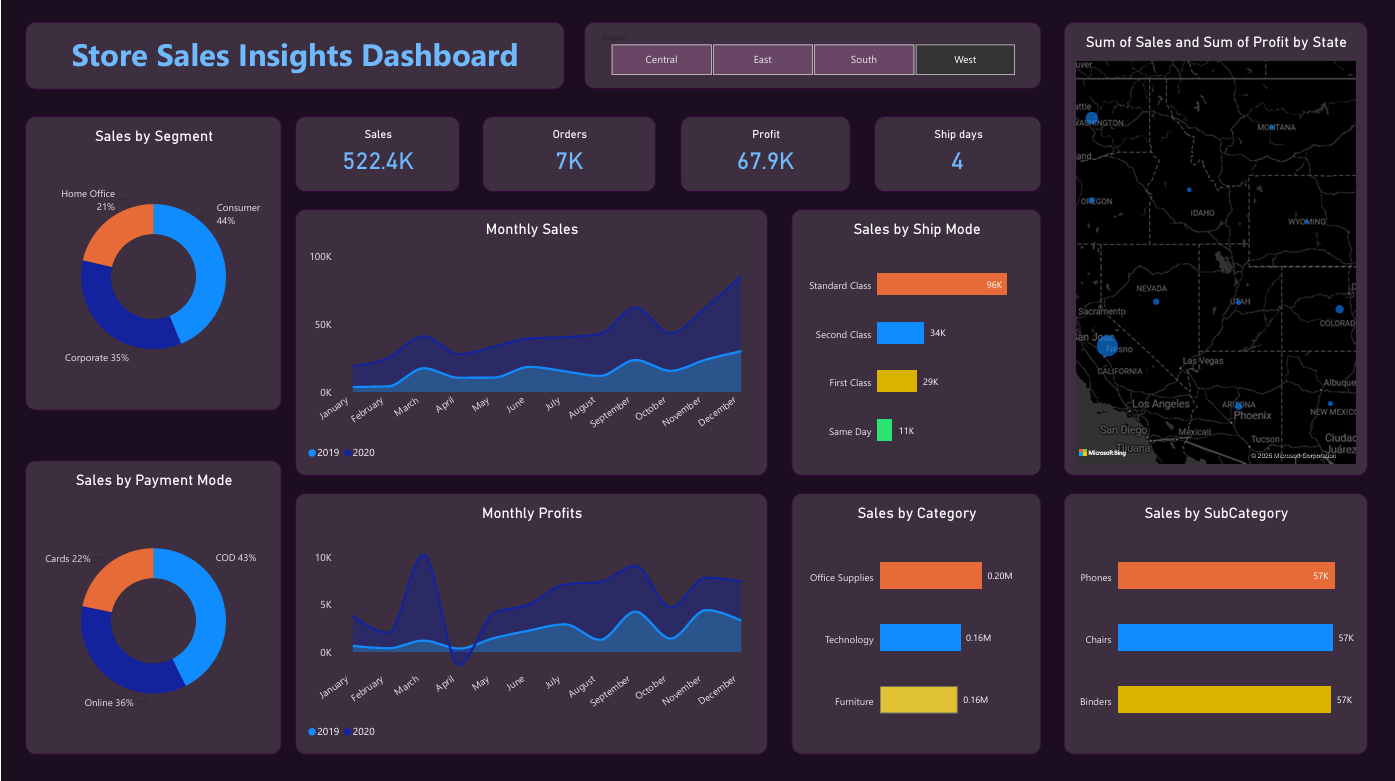

This screenshot's page, from the dashboard's own definition file:
{"tool":"powerbi","page":{"name":"Page 1","canvas":[1920,1080],"ordinal":0},"visuals":[{"type":"clusteredBarChart","title":"Sales by Category","fields":{"Category":["Sheet1.Category"],"Y":["Sum(Sheet1.Sales)"]},"box":[1089.5,679.7,343.4,360],"z":0},{"type":"clusteredBarChart","title":"Sales by SubCategory","fields":{"Category":["Sheet1.Sub-Category"],"Y":["Sum(Sheet1.Sales)"]},"box":[1463.7,679.7,419.2,360],"z":1000},{"type":"clusteredBarChart","title":"Sales by Ship Mode","fields":{"Category":["Sheet1.Ship Mode"],"Y":["Sum(Sheet1.Sales)"]},"box":[1089.5,289,343.4,367.1],"z":2000},{"type":"stackedAreaChart","title":"Monthly Sales ","fields":{"Category":["Sheet1.Order Date.Variation.Date Hierarchy.Month","Sheet1.Order Date.Variation.Date Hierarchy.Day"],"Series":["Sheet1.Order Date.Variation.Date Hierarchy.Year"],"Y":["Sum(Sheet1.Sales)"]},"box":[405,289,651.3,367.1],"z":3000},{"type":"stackedAreaChart","title":"Monthly Profits ","fields":{"Category":["Sheet1.Order Date.Variation.Date Hierarchy.Month","Sheet1.Order Date.Variation.Date Hierarchy.Day"],"Series":["Sheet1.Order Date.Variation.Date Hierarchy.Year"],"Y":["Sum(Sheet1.Profit)"]},"box":[405,679.7,651.3,360],"z":4000},{"type":"map","fields":{"Category":["Sheet1.State"],"Size":["Sum(Sheet1.Sales)"]},"box":[1463.7,30.8,419.2,625.3],"z":5000},{"type":"donutChart","title":"Sales by Segment","fields":{"Category":["Sheet1.Segment"],"Y":["Sum(Sheet1.Sales)"]},"box":[33.2,161.1,352.9,405],"z":6000},{"type":"donutChart","title":"Sales by Payment Mode","fields":{"Category":["Sheet1.Payment Mode"],"Y":["Sum(Sheet1.Sales)"]},"box":[33.2,634.7,352.9,405],"z":7000},{"type":"slicer","fields":{"Values":["Sheet1.Region"]},"box":[802.9,30.8,630,92.4],"z":8000},{"type":"textbox","box":[33.2,30.8,742.7,93.1],"z":9000},{"type":"cardVisual","title":"Ship days","fields":{"Data":["Avg(Sheet1.AvgDelivery)"]},"box":[1203.2,161.1,229.7,104.2],"z":10000},{"type":"cardVisual","title":"Orders","fields":{"Data":["Sum(Sheet1.Quantity)"]},"box":[663.2,161.1,239.2,104.2],"z":11000},{"type":"cardVisual","title":"Profit","fields":{"Data":["Sum(Sheet1.Profit)"]},"box":[935.5,161.1,234.5,104.2],"z":12000},{"type":"cardVisual","title":"Sales","fields":{"Data":["Sum(Sheet1.Sales)"]},"box":[405,161.1,227.4,104.2],"z":13000}]}

Visuals, with their boxes in screenshot pixels (x1, y1, x2, y2), scaled from the page's 1920x1080 canvas onto the 1395x781 screenshot:
"Sales by Category" clusteredBarChart: 792/492/1041/752
"Sales by SubCategory" clusteredBarChart: 1063/492/1368/752
"Sales by Ship Mode" clusteredBarChart: 792/209/1041/474
"Monthly Sales " stackedAreaChart: 294/209/767/474
"Monthly Profits " stackedAreaChart: 294/492/767/752
map - Sheet1.State x Sum(Sheet1.Sales): 1063/22/1368/474
"Sales by Segment" donutChart: 24/116/281/409
"Sales by Payment Mode" donutChart: 24/459/281/752
slicer - Sheet1.Region: 583/22/1041/89
textbox: 24/22/564/90
"Ship days" cardVisual: 874/116/1041/192
"Orders" cardVisual: 482/116/656/192
"Profit" cardVisual: 680/116/850/192
"Sales" cardVisual: 294/116/459/192
